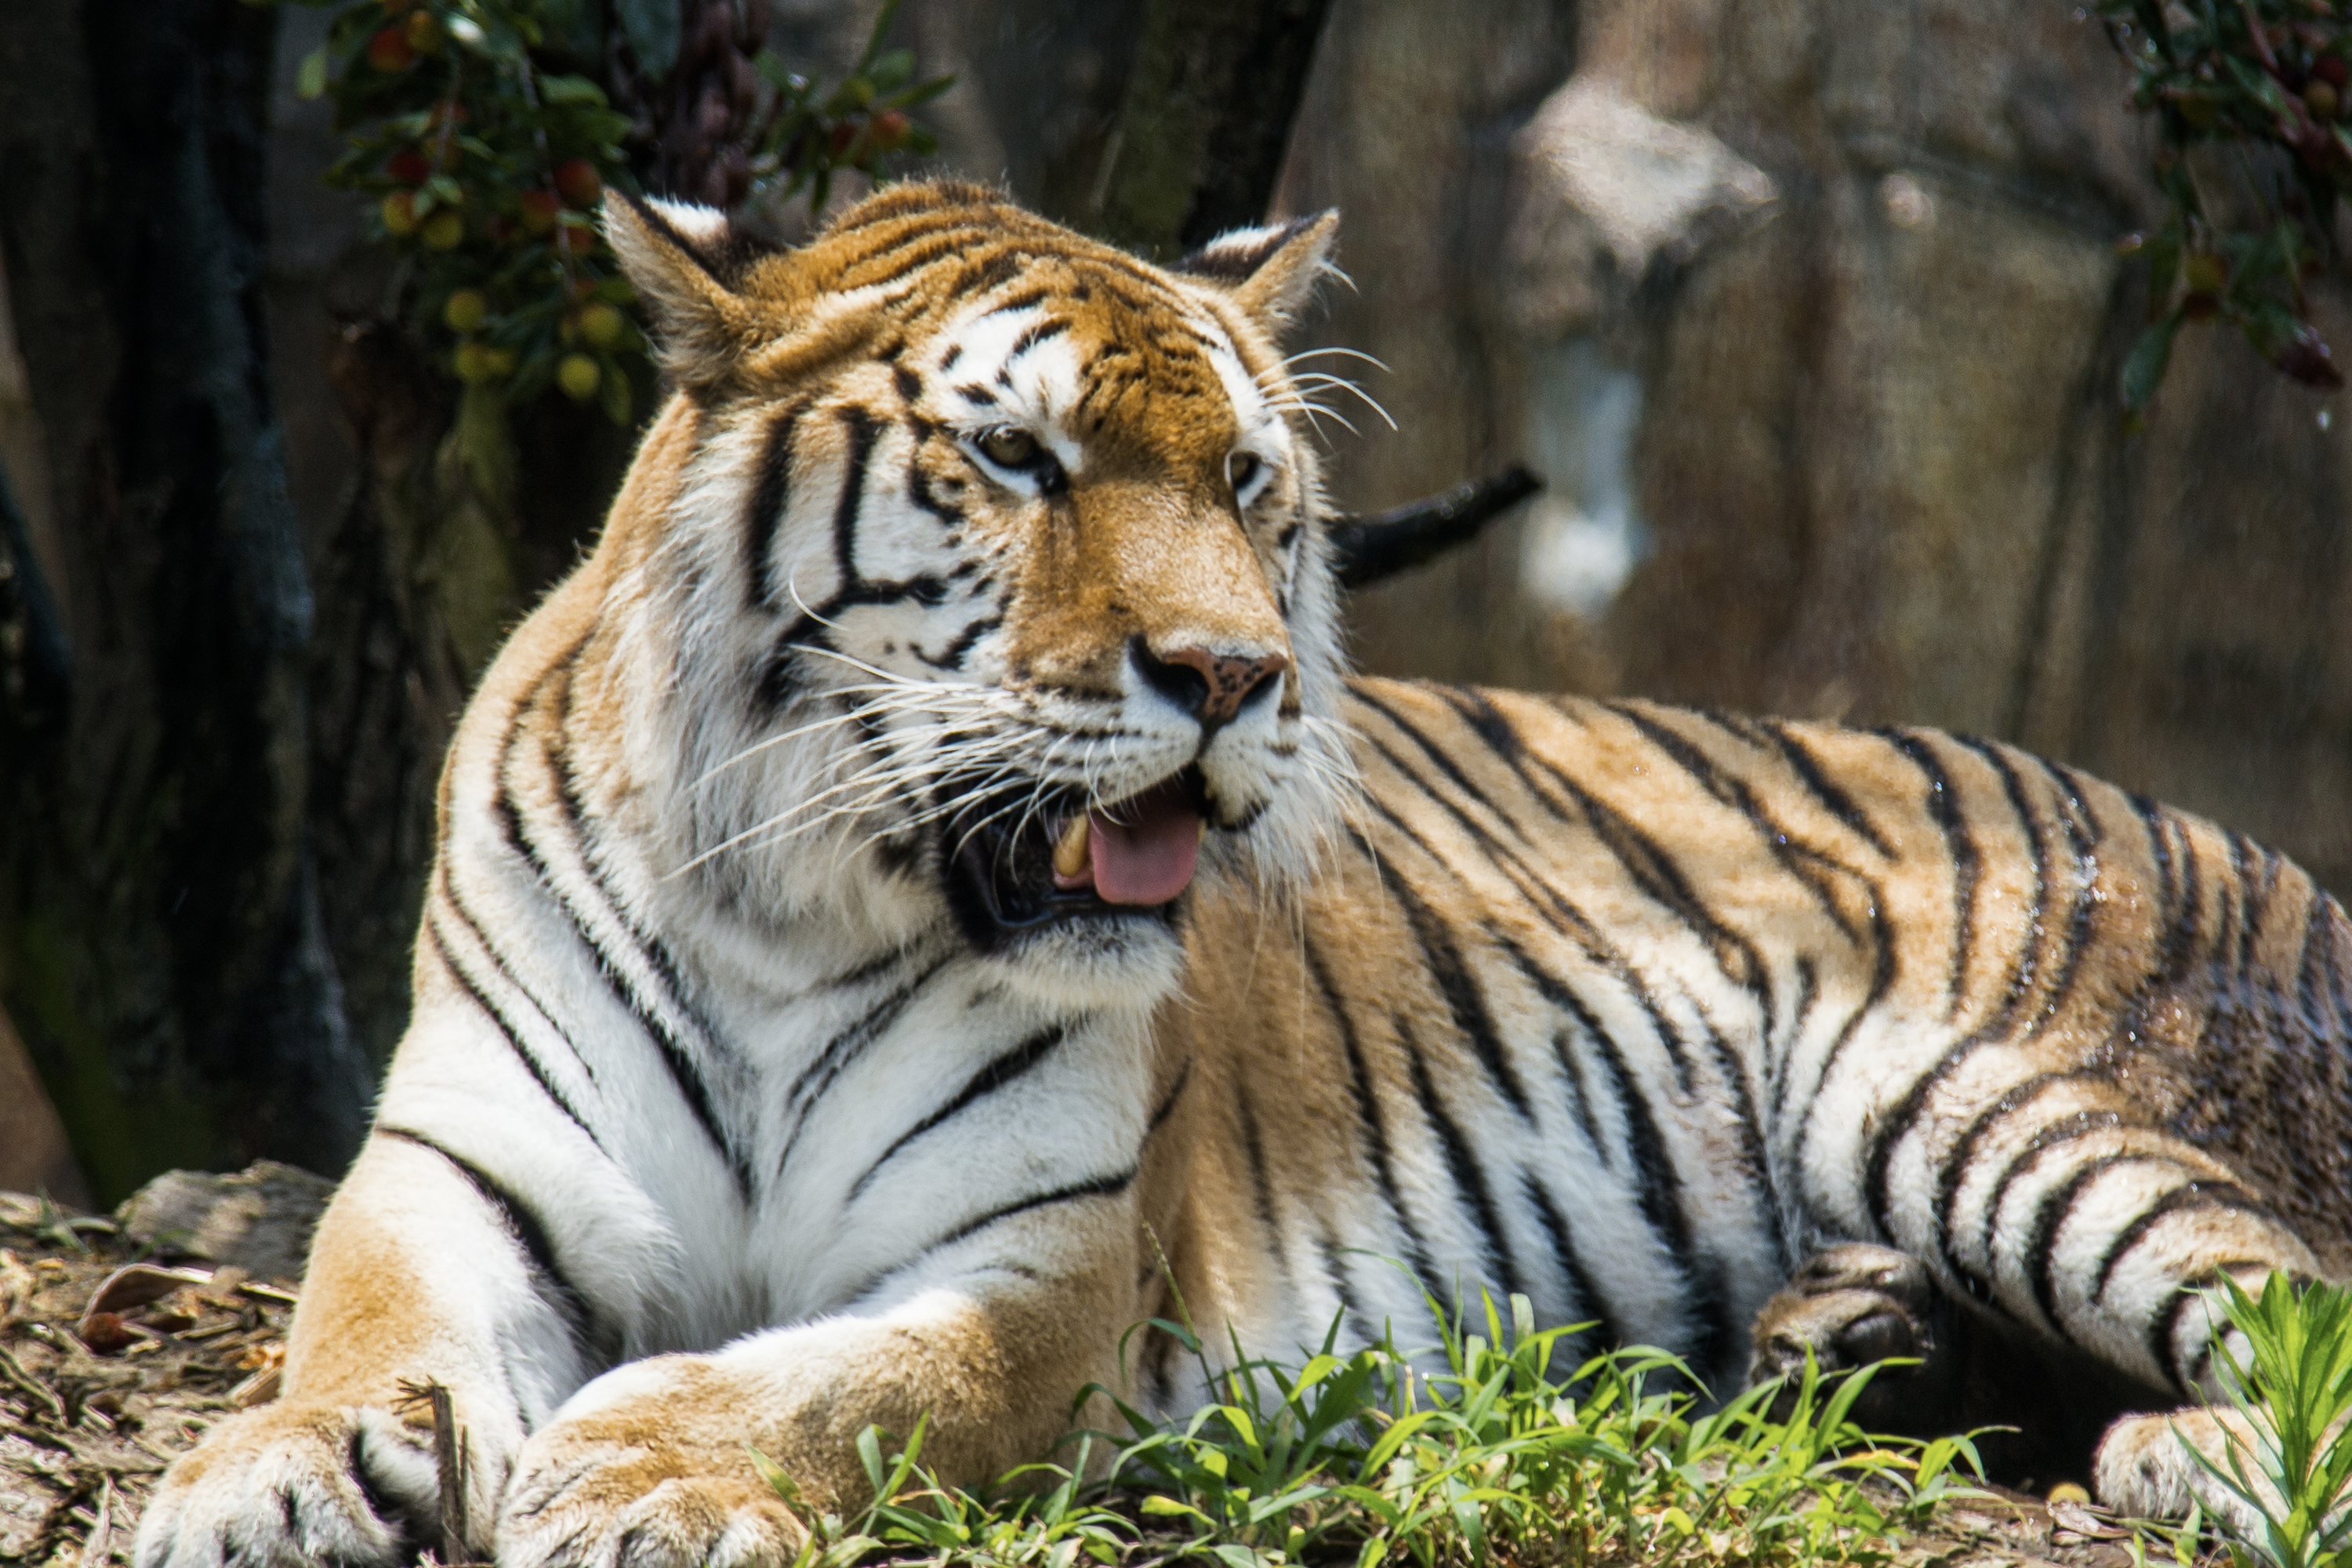tiger: (256, 112, 2324, 1526)
